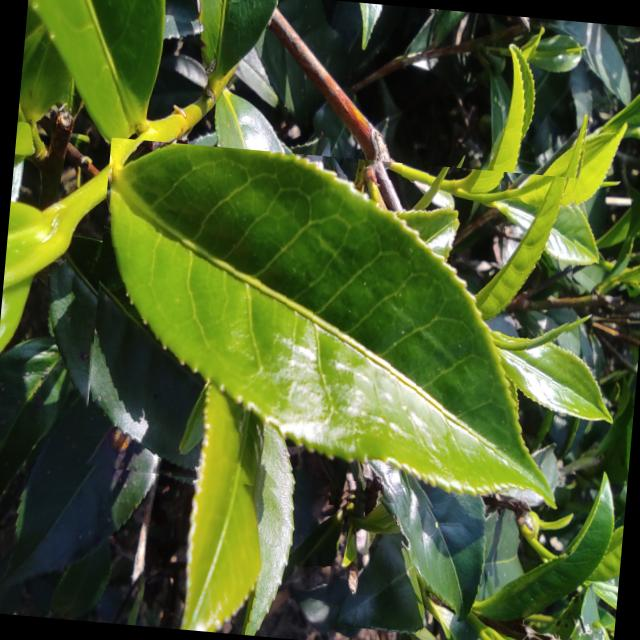Category B(2-4 days): (80, 137, 586, 523)
